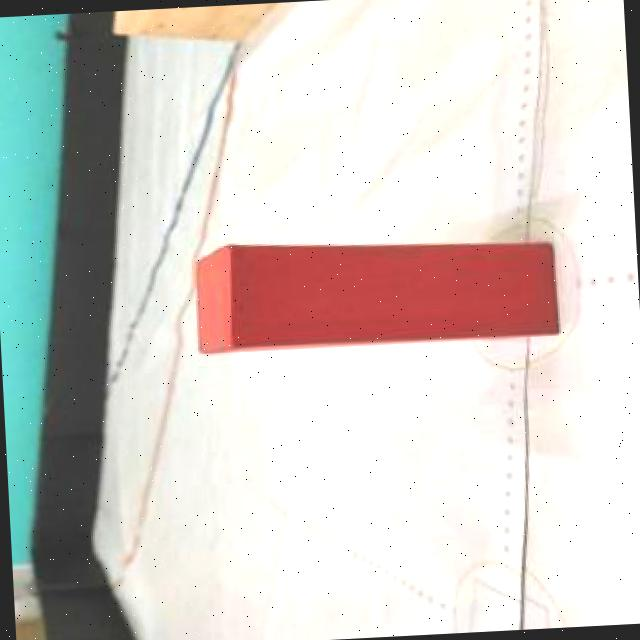redbox: (194, 240, 559, 351)
